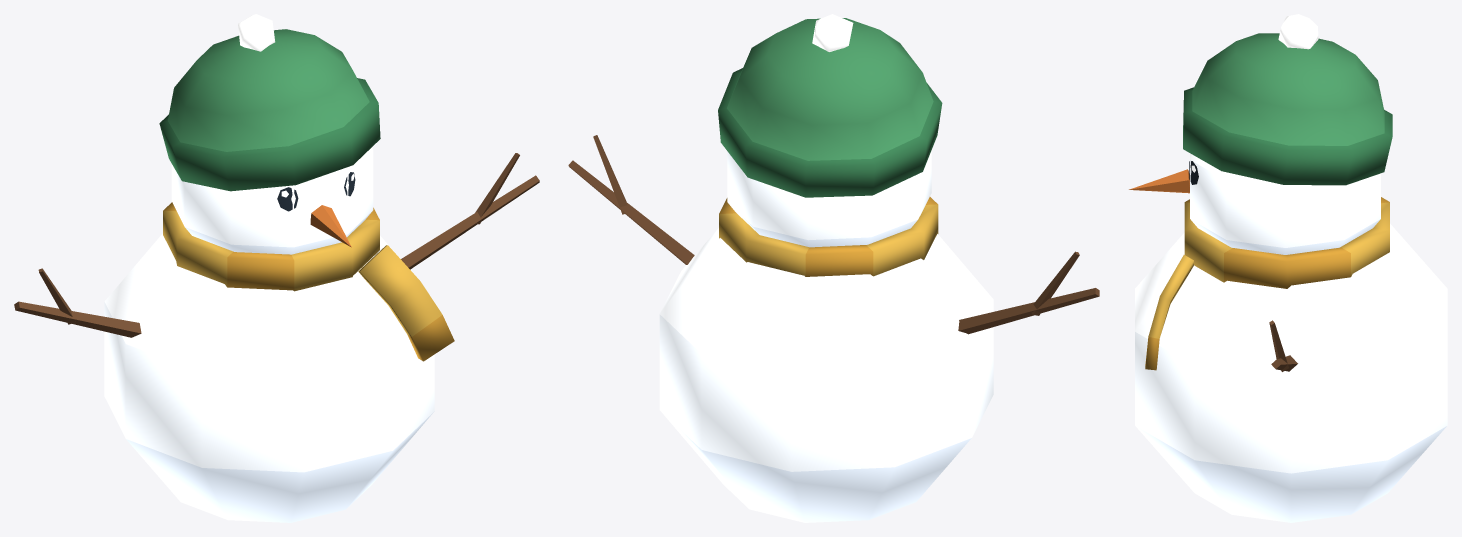
The model's file is snowman.glb.
3 views of the same model, side by side, from view 1: azimuth 30°, elevation 25°; view 2: azimuth 150°, elevation 25°; view 3: azimuth 270°, elevation 25° (orthographic). The views are drawn at different scales.
Visible parts, largest first — view 1: snowman; view 2: snowman; view 3: snowman.
Part boxes in pixels (box(x1,y1,x2,y2)): snowman: box(14, 14, 539, 522); snowman: box(568, 14, 1099, 522); snowman: box(1129, 14, 1447, 522).
Size of the model in its own units: 3.12 by 2.82 by 1.66.
